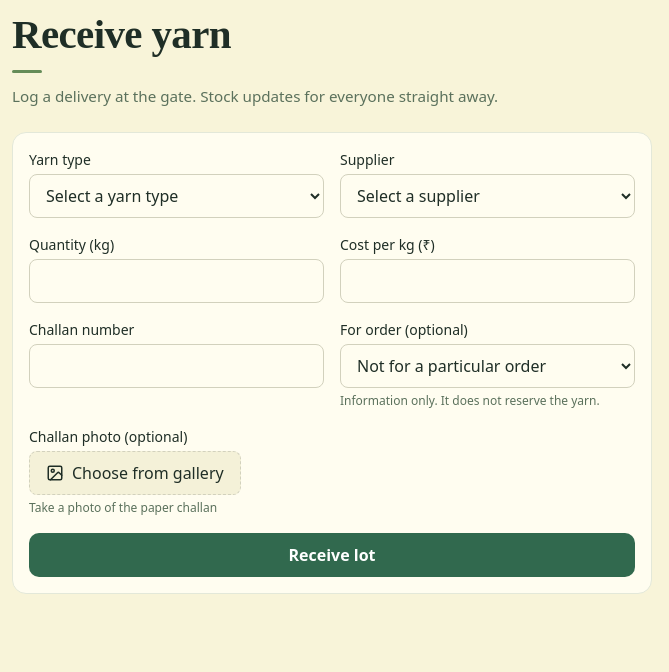
ReceiveYarn › records the lot with real numbers and confirms it
Select "30s cotton (raw white)" in the dropdown labelled "Yarn type": (176, 196) x1=29 y1=174 x2=324 y2=218
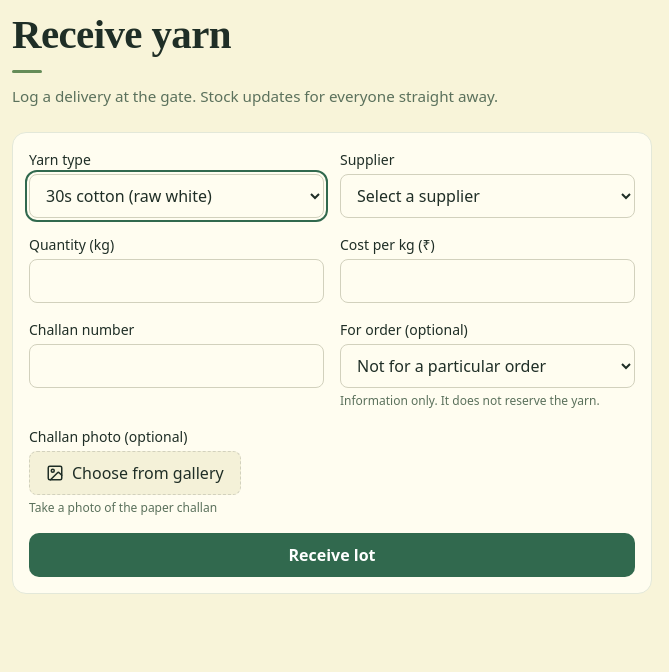
Select "Vardhman Yarns" in the dropdown labelled "Supplier": (488, 196) x1=340 y1=174 x2=635 y2=218
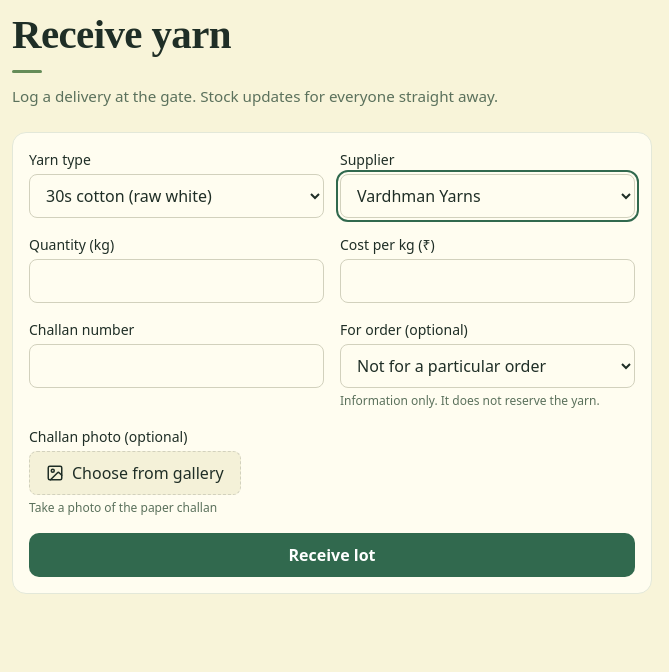
In the number field labelled "Quantity (kg)": (176, 281) x1=29 y1=259 x2=324 y2=303, type "800"
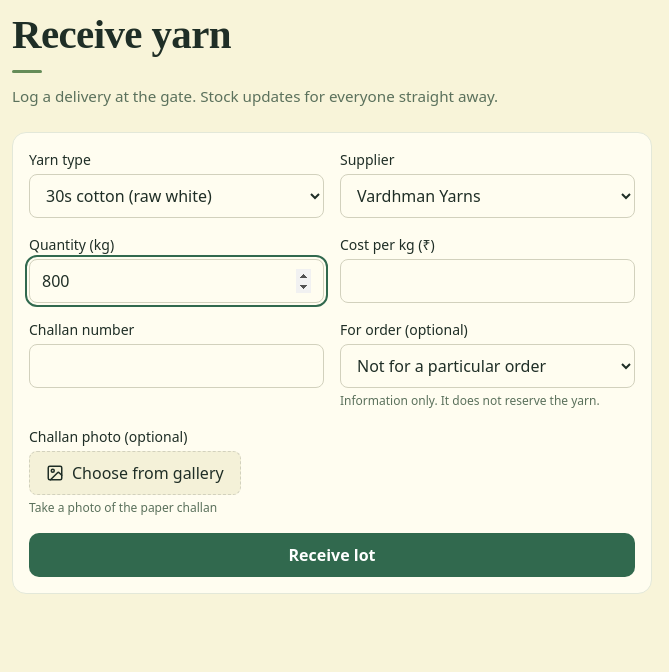
In the number field labelled "Cost per kg (₹)": (488, 281) x1=340 y1=259 x2=635 y2=303, type "250"
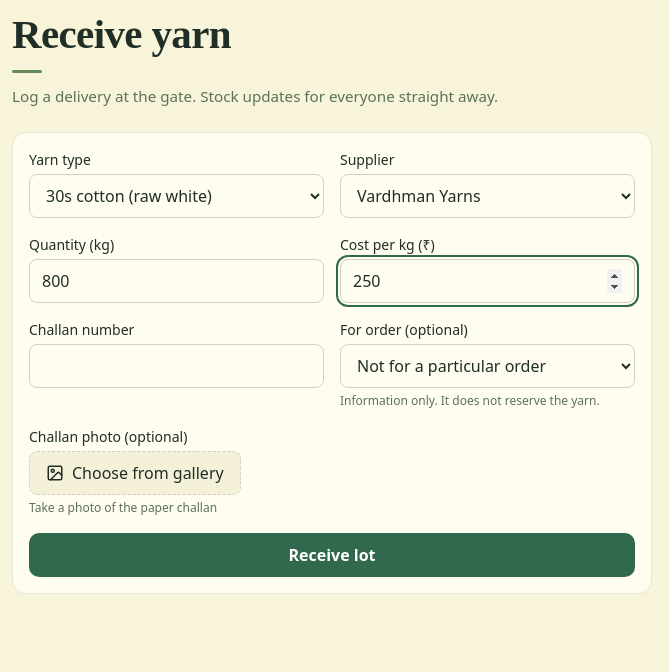
In the field labelled "Challan number": (176, 366) x1=29 y1=344 x2=324 y2=388, type "CH-5521"
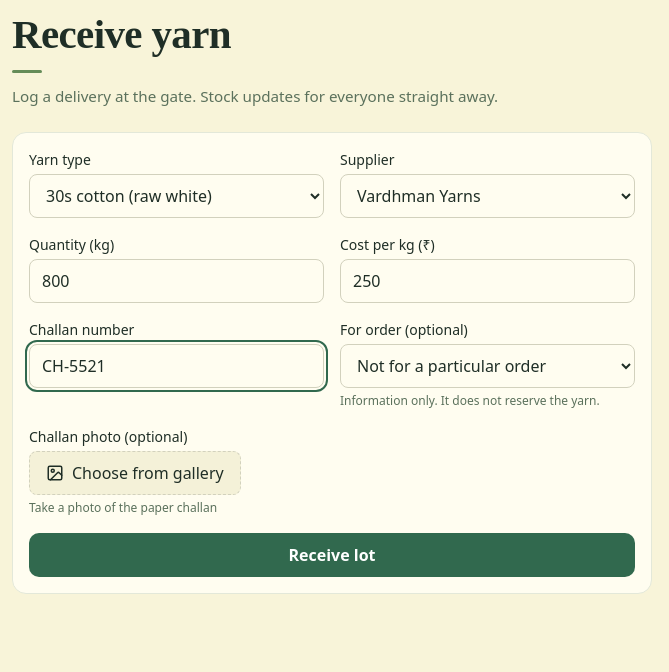
Click the button "Receive lot": (332, 555) x1=29 y1=533 x2=635 y2=577
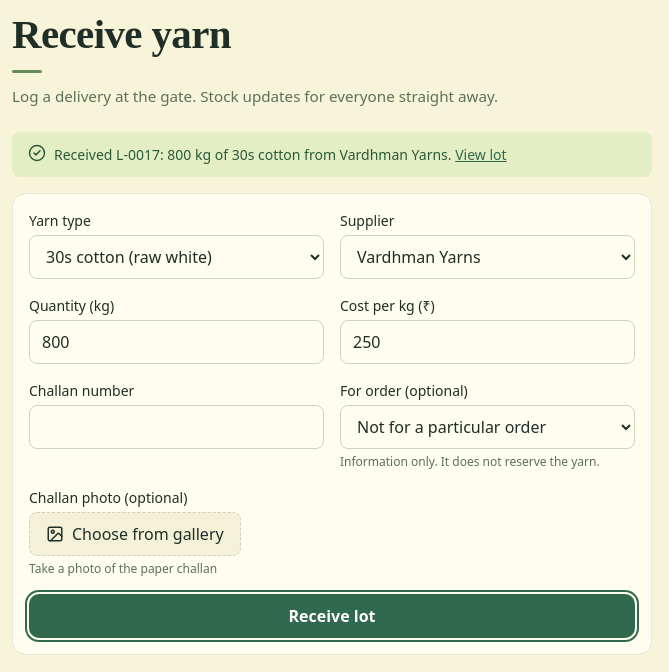
Expected: the text "L-0017" is shown, x1=54 y1=145 x2=452 y2=164
Expected: the field labelled "Challan number" is empty, x1=29 y1=405 x2=324 y2=449
